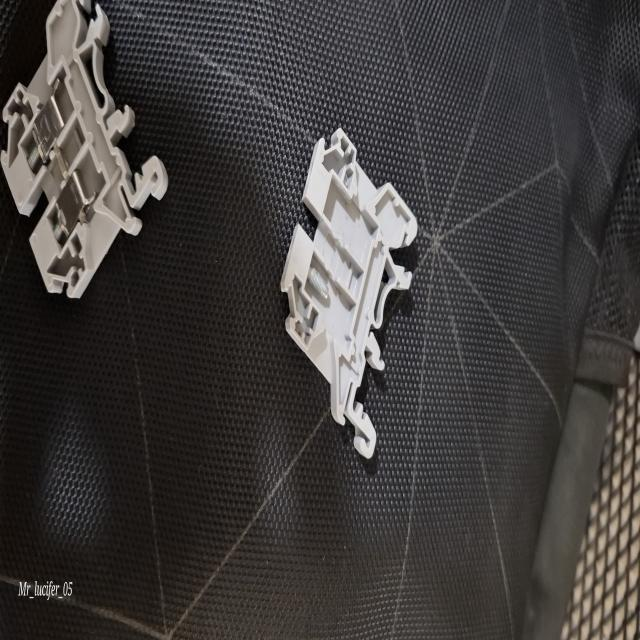Pass: (0, 1, 172, 309)
Reject: (278, 123, 422, 470)
